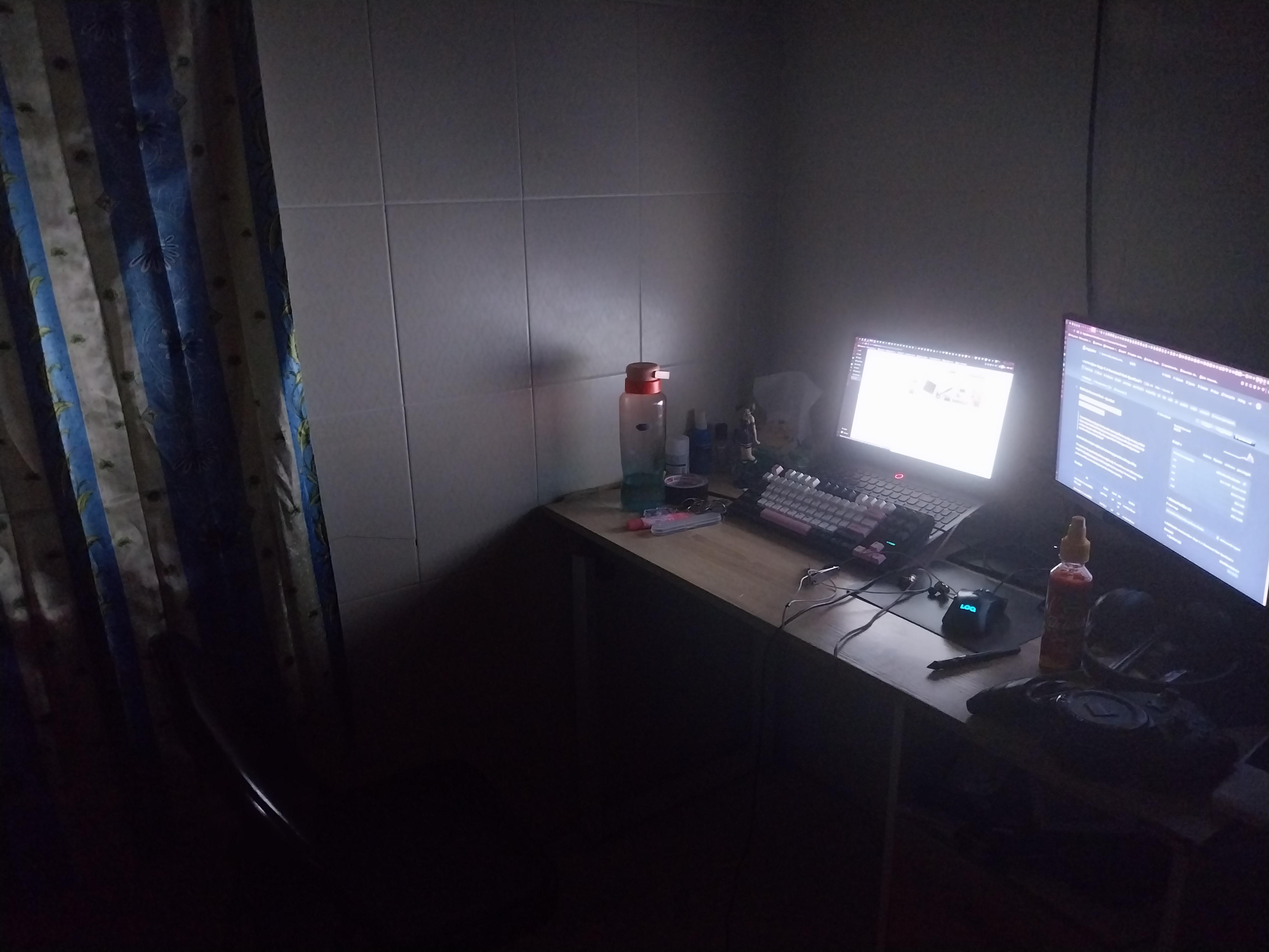bottle: (1039, 514, 1101, 675), (619, 362, 669, 513), (711, 422, 731, 478)
curtain: (0, 0, 343, 855), (103, 824, 110, 830), (38, 829, 43, 833), (26, 840, 31, 843), (142, 809, 144, 811), (93, 844, 95, 846), (144, 808, 147, 808)
keyboard: (729, 444, 937, 588)
laptop: (784, 299, 1045, 589)
mouse: (937, 577, 1011, 654)
